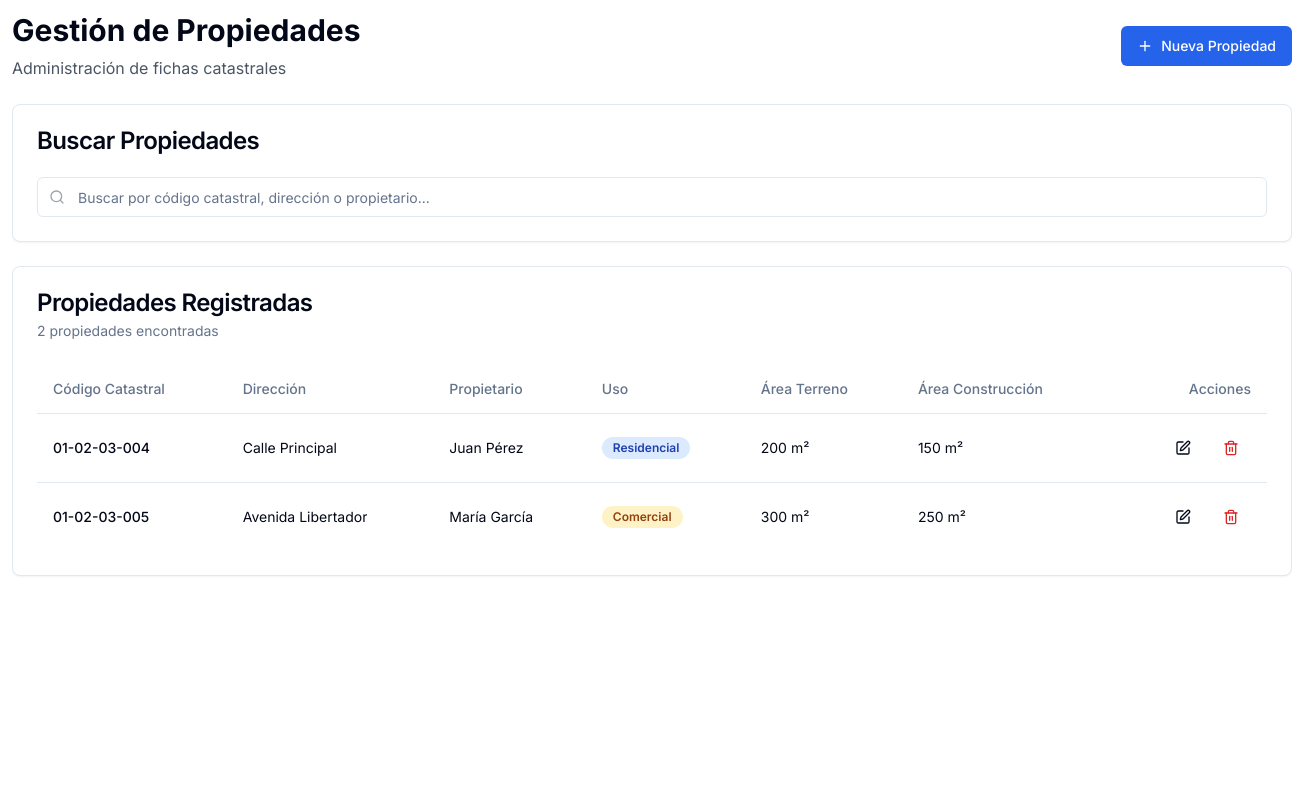
Test: Catastro Integration Tests › Properties Management › filters properties by search term
This screenshot has width=1304, height=812.
Expected: the text "01-02-03-004" is shown, top-left (37, 413), bottom-right (227, 482)
Type "Libertador" into the field with placeholder "Buscar por código catastral, dirección o propietario..." at (652, 197), box top-left (37, 177), bottom-right (1267, 217)
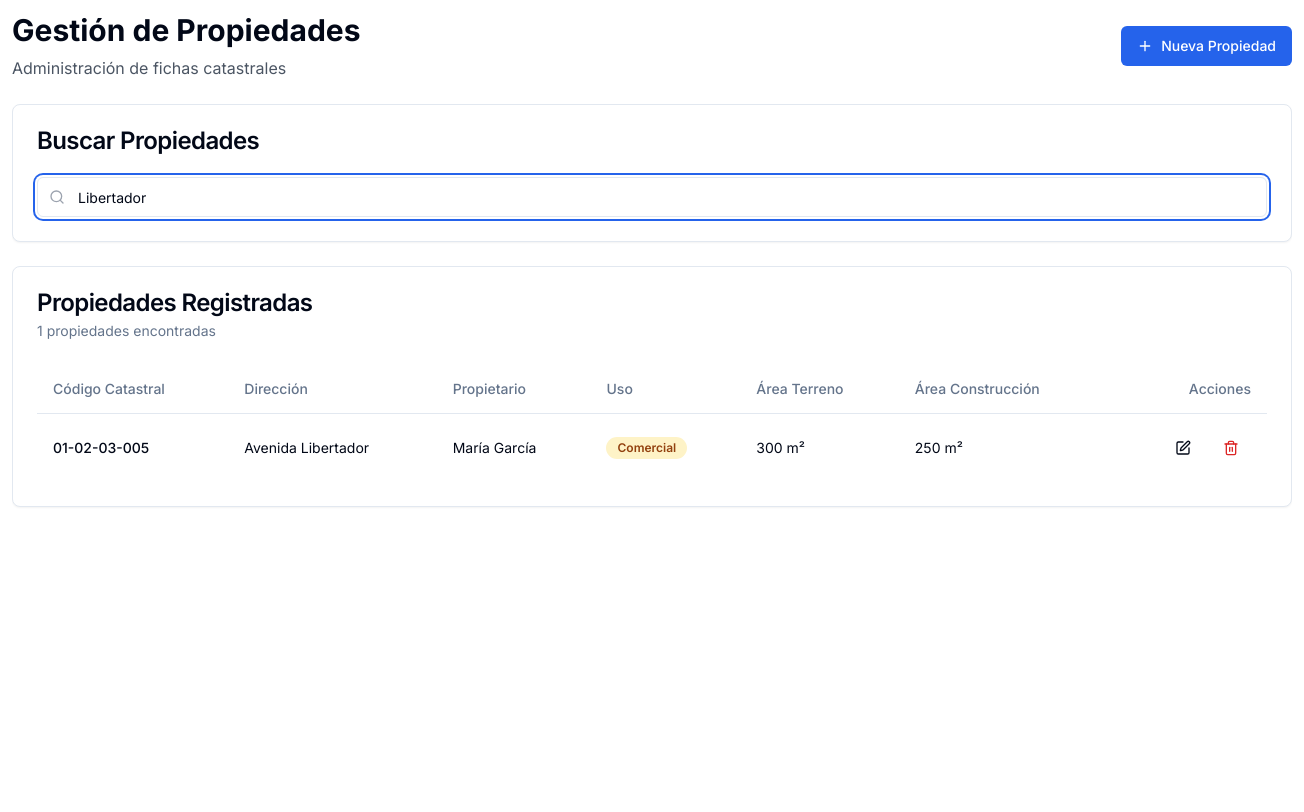
Expected: the text "01-02-03-005" is shown, top-left (37, 413), bottom-right (228, 482)
Expected: the text "01-02-03-004" is gone
